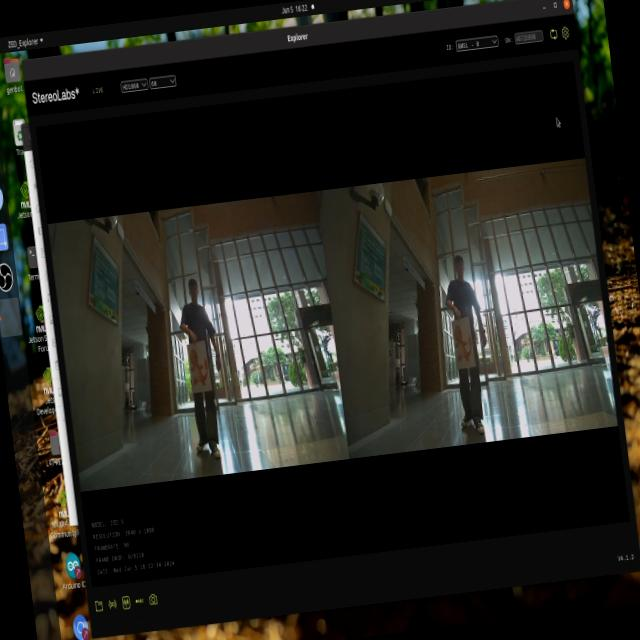red: (184, 337, 210, 391), (448, 320, 476, 366)
